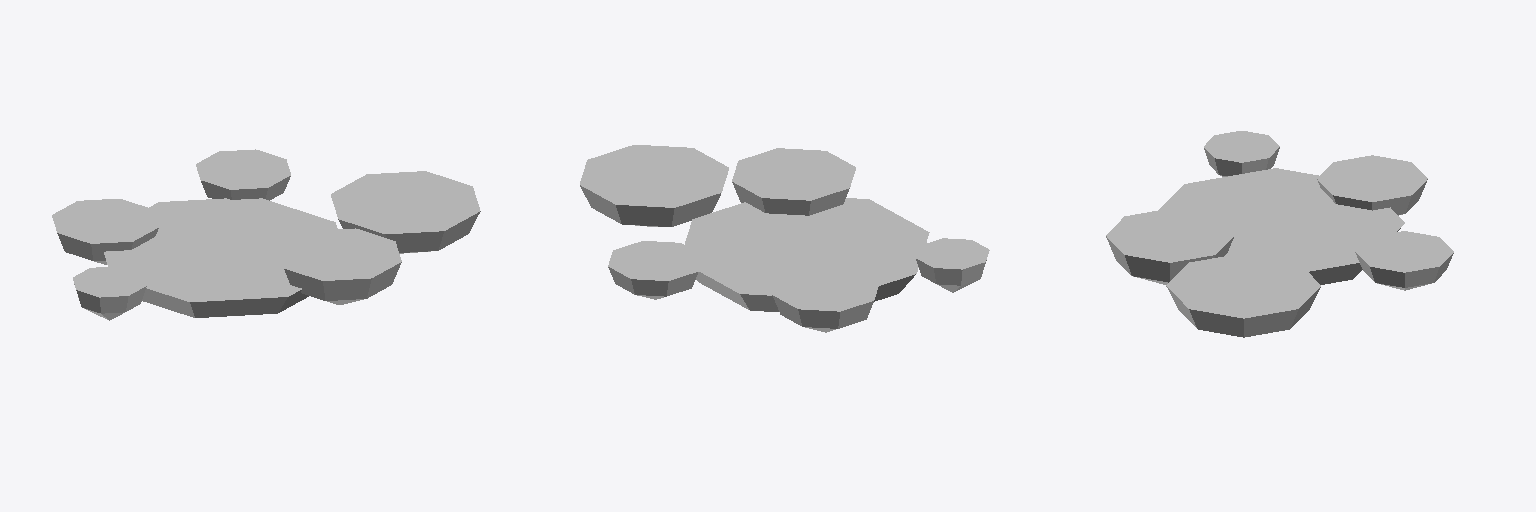
The model's file is LillyPad_03.obj.
The picture shows the model from 3 angles: view 1: azimuth 30°, elevation 25°; view 2: azimuth 150°, elevation 25°; view 3: azimuth 270°, elevation 25°; orthographic projection.
Parts seen in each view (by area): view 1: Pad03.001; view 2: Pad03.001; view 3: Pad03.001.
Boxes of the visible parts, <box> form: Pad03.001: <box>52,149,480,320</box>; Pad03.001: <box>580,145,989,332</box>; Pad03.001: <box>1106,131,1453,337</box>.
Bounding box in the file's own units: 2.63 × 0.4336 × 1.99.